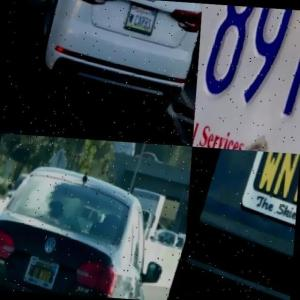Plate: (192, 3, 300, 147), (231, 149, 300, 249), (22, 252, 61, 290), (122, 1, 159, 38)
